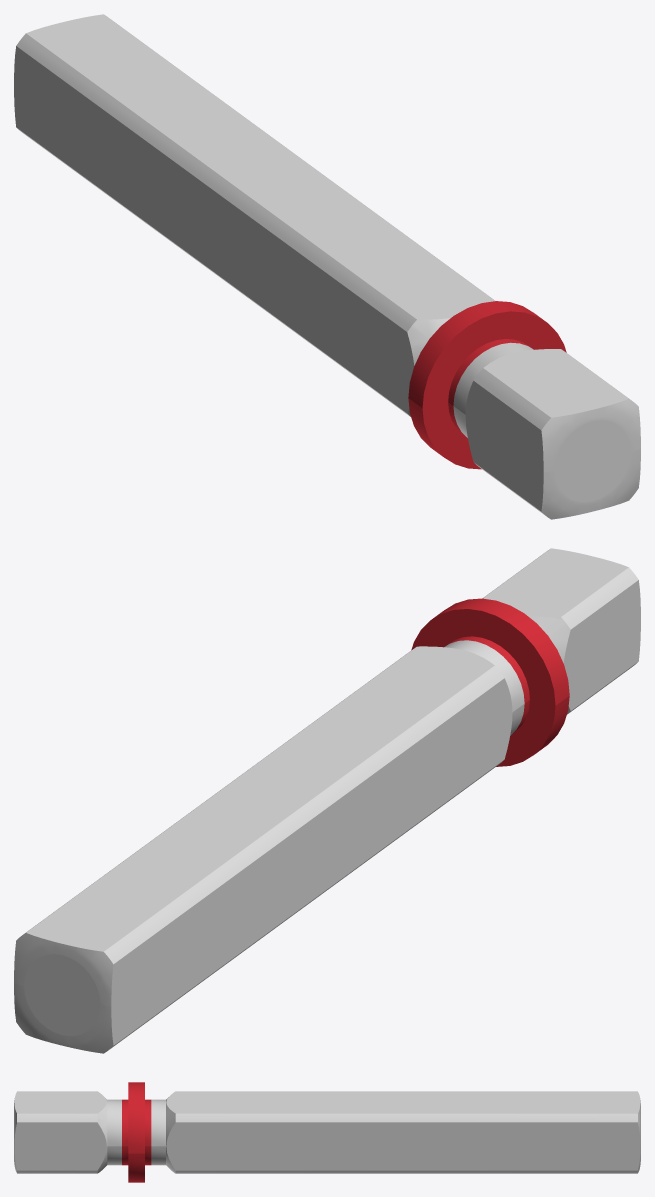
The model's file is 2x-pitch-motor-shaft-228-2500-2234-86.glb.
3 views of the same model, one above another, from view 1: azimuth 30°, elevation 25°; view 2: azimuth 150°, elevation 25°; view 3: azimuth 270°, elevation 25° (orthographic). The views are drawn at different scales.
Bounding box in the file's own units: 4.8 × 4.8 × 29.97.
